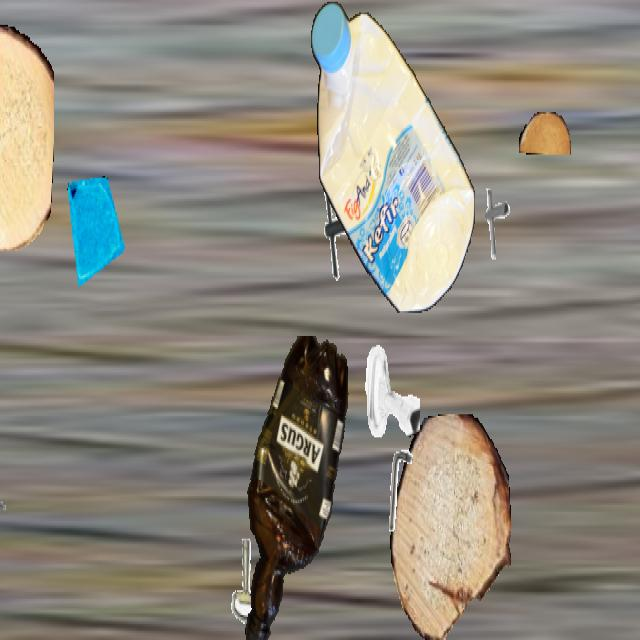glass: (64, 176, 128, 290)
metal: (313, 176, 373, 283), (362, 340, 420, 442), (221, 532, 277, 631), (375, 442, 429, 538), (473, 183, 517, 261), (0, 359, 15, 434), (0, 459, 11, 533)
plastic: (311, 2, 475, 311), (235, 336, 355, 638)
wood: (390, 414, 510, 638), (0, 25, 53, 249), (519, 112, 571, 155)
